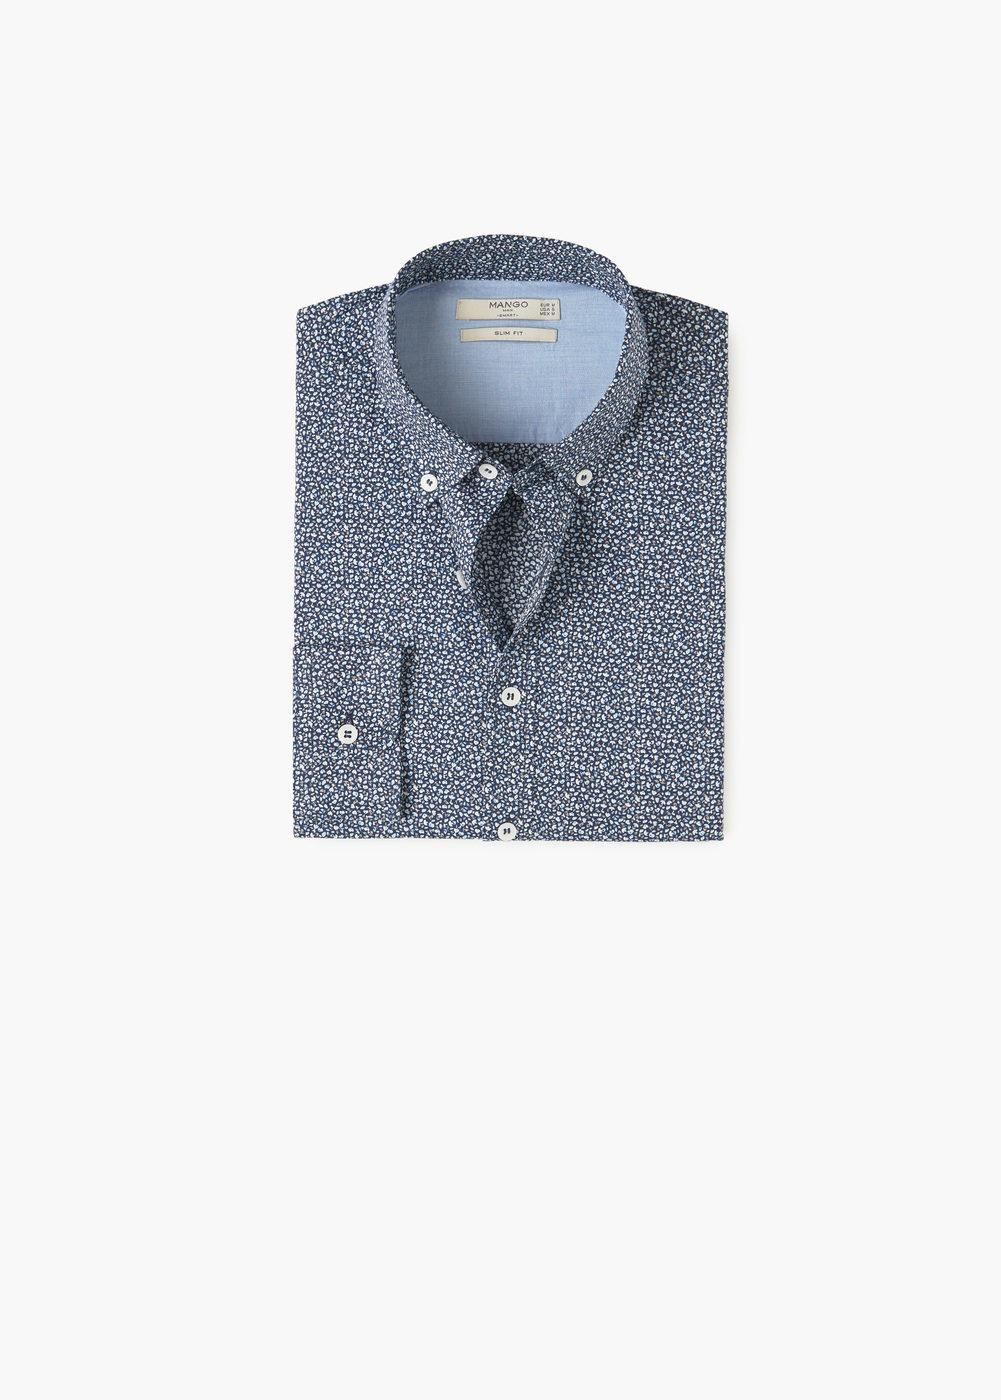teeshirt: (255, 221, 757, 861)
